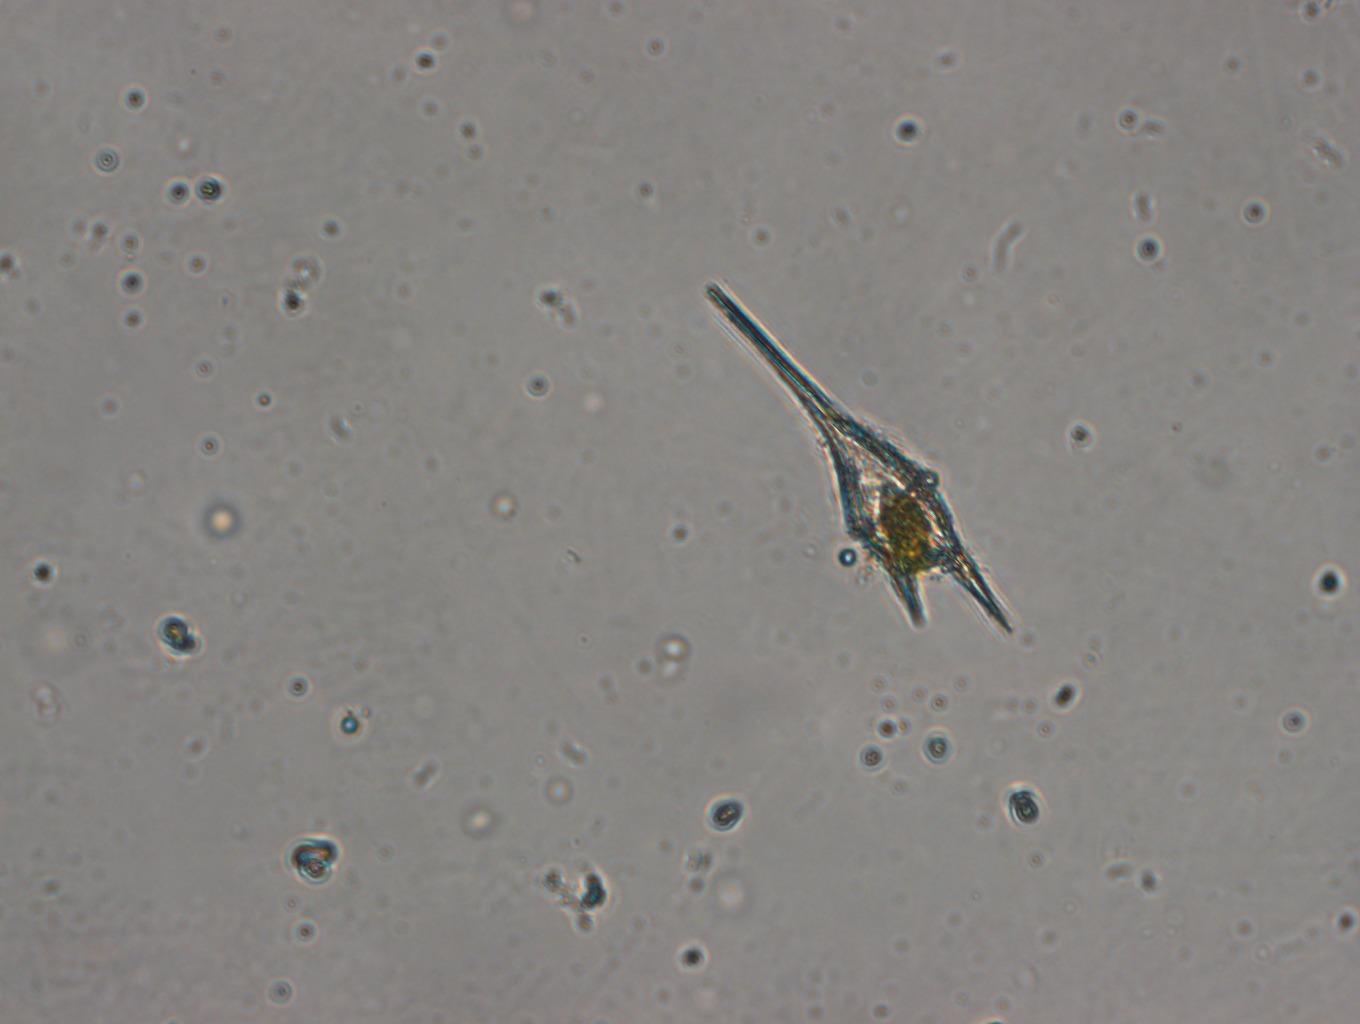ceratium furca: (699, 278, 1016, 635)
